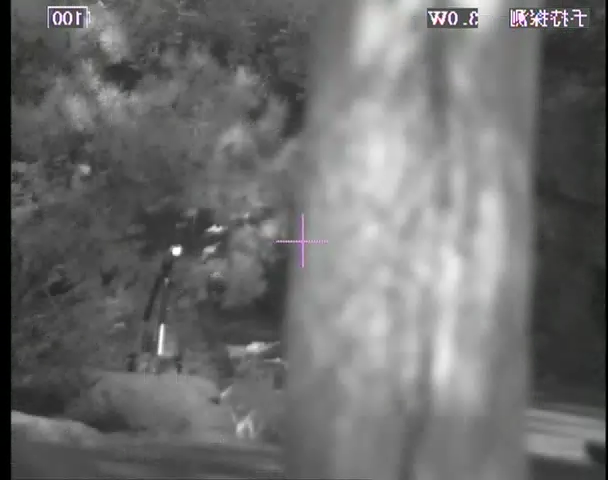my: (171, 244, 182, 257)
